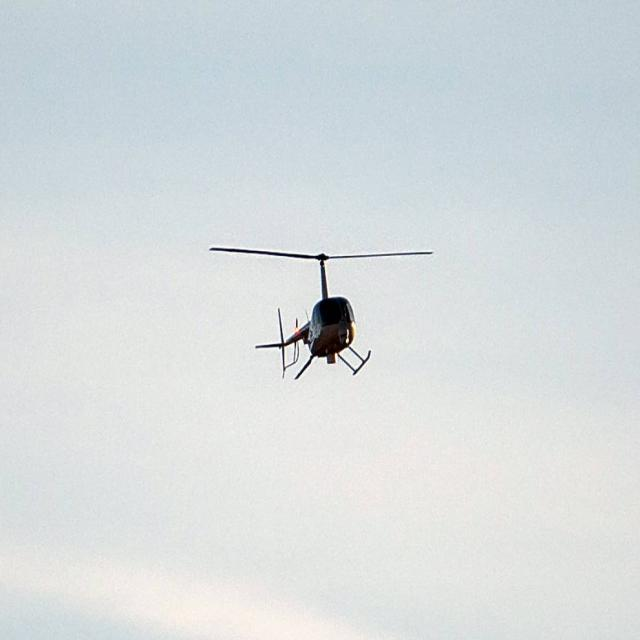helicopter: (205, 237, 437, 388)
